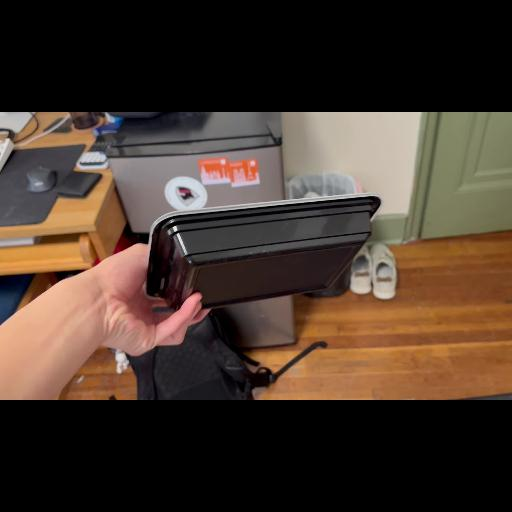rigid_plastic_container: (126, 185, 364, 319)
